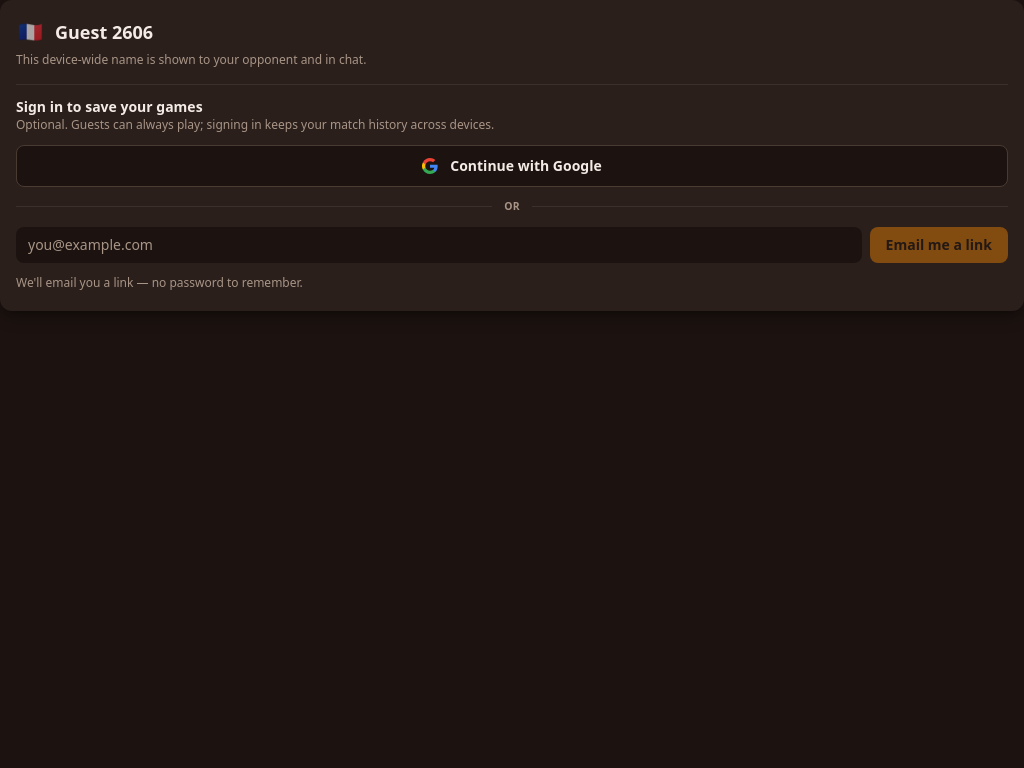
IdentityCard › opens the flag modal from the header once a flag is set
Check: the picture with test id "country-flag" reads "🇫🇷", box [18,18,43,45]
Step 1. Click the button named "Edit flag" → click(30, 32), box [16,16,45,48]
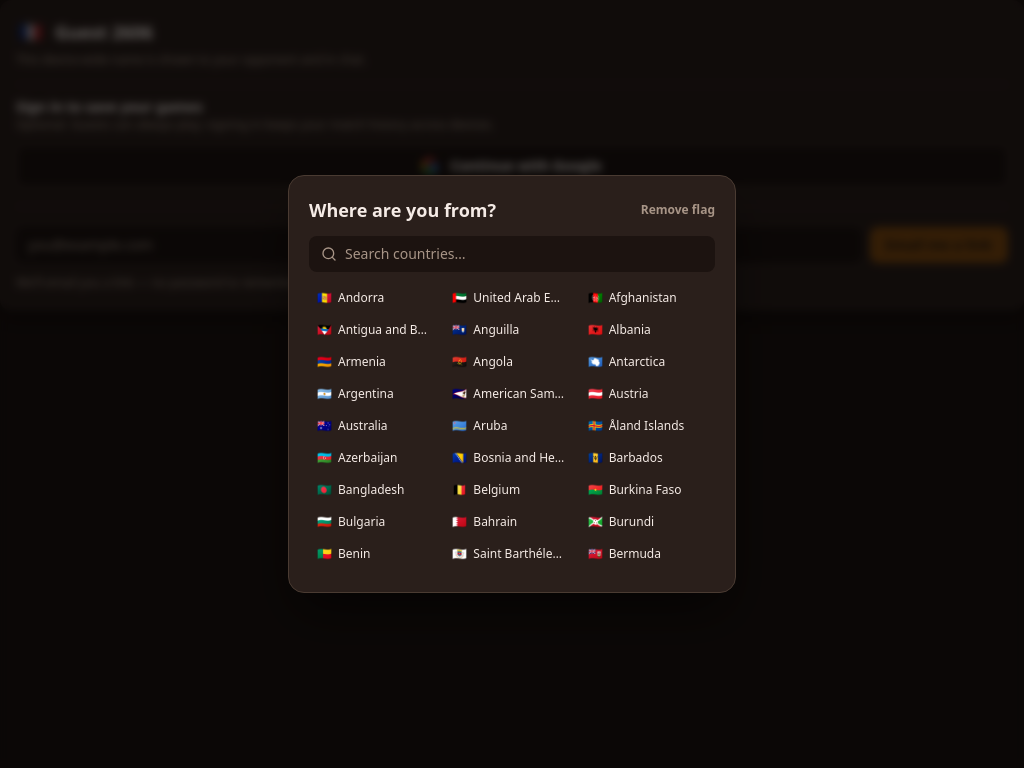
Check: the dialog "Where are you from" is shown, box [288,175,736,593]
